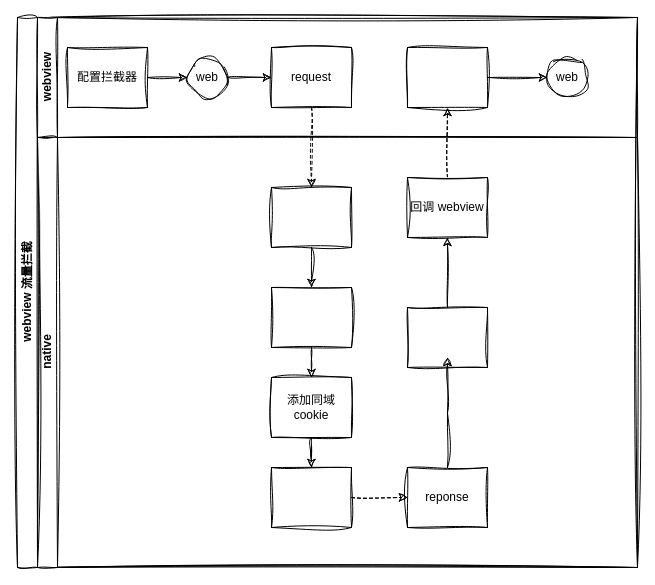
The diagram is 655 pixels wide and 585 high, and some of its shapes have lost their labels. The box of each missing label's shape, as (x1, y1, x2, y2) in pixels:
callback: (406, 46, 488, 108)
intercept: (270, 186, 352, 248)
reuest: (270, 466, 352, 528)
同步 webview cokkie: (406, 306, 488, 368)
构造 request: (270, 286, 352, 348)
